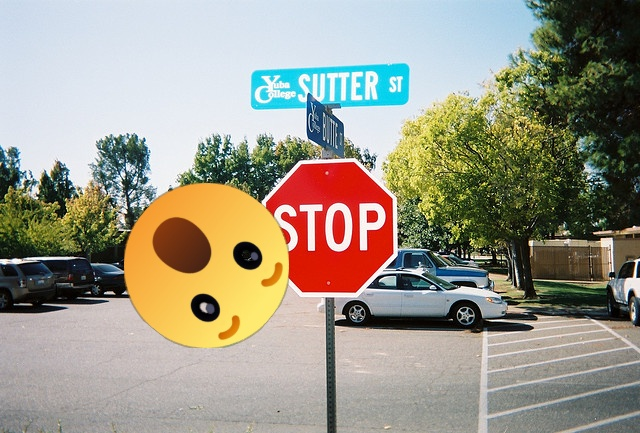wow: (124, 183, 289, 348)
